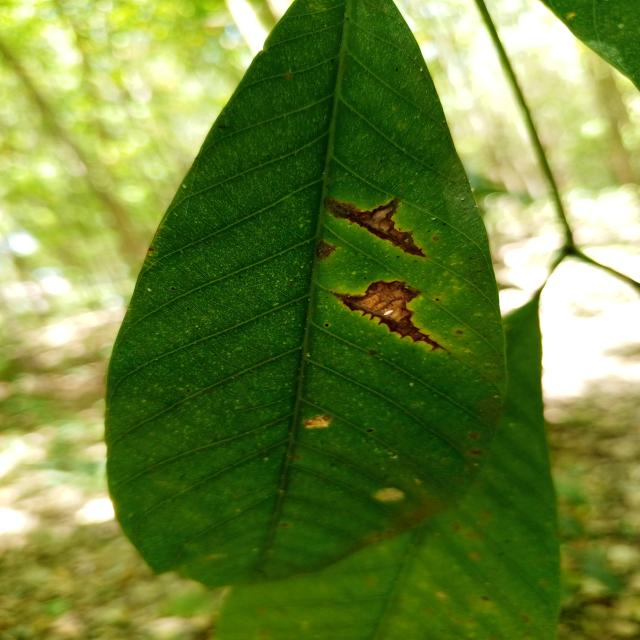Corynespora: (328, 280, 446, 352), (324, 196, 426, 258)
